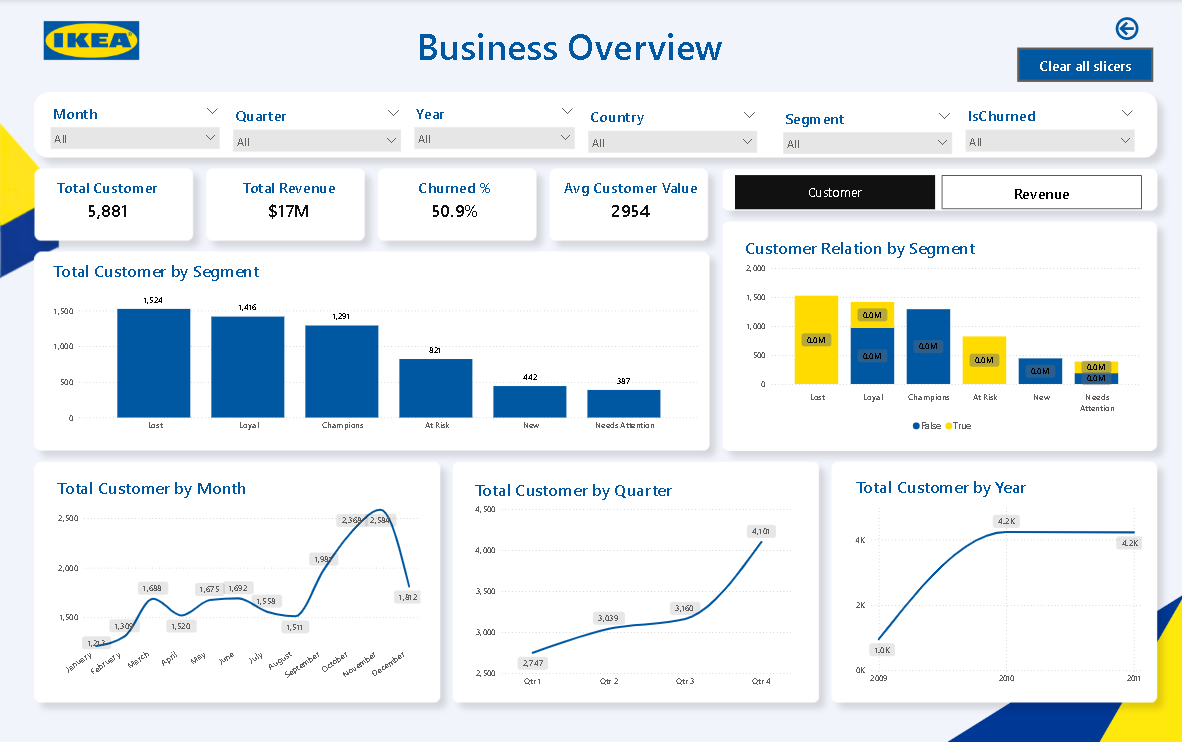

This screenshot's page, from the dashboard's own definition file:
{"tool":"powerbi","page":{"name":"Overview","canvas":[1750,1100],"ordinal":1},"visuals":[{"type":"card","title":"Total Customer","fields":{"Values":["Sheet1.Total_Customer"]},"box":[68.2,261.7,180.6,73.7],"z":0},{"type":"lineChart","title":"Total Customer by Year","fields":{"Category":["Sheet1.InvoiceMonth.Variation.Date Hierarchy.Year"],"Y":["Sheet1.Total_Customer"]},"box":[1257.4,701.9,432,318],"z":0,"group":"g1"},{"type":"card","title":"Churned %","fields":{"Values":["Sheet1.Churned %"]},"box":[580.6,261.7,180.6,73.7],"z":1000},{"type":"lineChart","title":"Total Customer by Quarter","fields":{"Category":["Sheet1.InvoiceMonth.Variation.Date Hierarchy.Quarter"],"Y":["Sheet1.Total_Customer"]},"box":[695.4,705.9,478,318],"z":1000,"group":"g1"},{"type":"card","title":"Total Revenue","fields":{"Values":["Sheet1.Total_Revenue"]},"box":[334.9,260.9,182.5,73.7],"z":2000},{"type":"columnChart","title":"Total Customer by Segment","fields":{"Category":["Sheet1.Segment"],"Y":["Sheet1.Total_Customer"]},"box":[73.4,383.5,964,264],"z":2000,"group":"g1"},{"type":"card","title":"Avg Customer Value","fields":{"Values":["Sheet1.Avg Customer Value"]},"box":[818.4,261.7,223,73.7],"z":3000},{"type":"columnChart","title":"Customer Relation by Segment","fields":{"Category":["Sheet1.Segment"],"Series":["Sheet1.IsChurned"],"Y":["Sheet1.Total_Customer"]},"box":[1093.4,349.5,596,298],"z":3000,"group":"g1"},{"type":"slicer","fields":{"Values":["Sheet1.InvoiceDate.Variation.Date Hierarchy.Quarter"]},"box":[333.6,151.1,267.3,81.1],"z":4000},{"type":"lineChart","title":"Total Customer by Month","fields":{"Category":["Sheet1.InvoiceMonth.Variation.Date Hierarchy.Month"],"Y":["Sheet1.Total_Customer"]},"box":[79.4,703.9,546,318],"z":4000,"group":"g1"},{"type":"slicer","fields":{"Values":["Sheet1.InvoiceDate.Variation.Date Hierarchy.Month"]},"box":[64.5,147.5,269.1,81.1],"z":5000},{"type":"slicer","fields":{"Values":["Sheet1.InvoiceDate.Variation.Date Hierarchy.Year"]},"box":[600.9,147.5,256.2,81.1],"z":6000},{"type":"slicer","fields":{"Values":["Sheet1.Country"]},"box":[857.1,153,269.1,75.6],"z":7000},{"type":"slicer","fields":{"Values":["Sheet1.Segment"]},"box":[1144.6,154.8,269.1,75.6],"z":8000},{"type":"slicer","fields":{"Values":["Sheet1.IsChurned"]},"box":[1413.7,151.1,269.1,75.6],"z":9000},{"type":"group","id":"g1","title":"Customer","box":[73.4,349.5,1615.8,676.2],"z":10000},{"type":"bookmarkNavigator","box":[1084,260,600,50],"z":12000},{"type":"image","box":[0,0,270,122],"z":13000},{"type":"textbox","box":[610,28,492,94],"z":14000},{"type":"actionButton","box":[1640,22,100,40],"z":15000},{"type":"actionButton","box":[1500,72,200,50],"z":16000}]}

Visuals, with their boxes in screenshot pixels (x1, y1, x2, y2), scaled from the page's 1750x1100 canvas onto the 1182x742 screenshot:
"Total Customer" card: bbox=(46, 177, 168, 226)
"Total Customer by Year" lineChart: bbox=(849, 473, 1141, 688)
"Churned %" card: bbox=(392, 177, 514, 226)
"Total Customer by Quarter" lineChart: bbox=(470, 476, 793, 691)
"Total Revenue" card: bbox=(226, 176, 349, 226)
"Total Customer by Segment" columnChart: bbox=(50, 259, 701, 437)
"Avg Customer Value" card: bbox=(553, 177, 703, 226)
"Customer Relation by Segment" columnChart: bbox=(739, 236, 1141, 437)
slicer - Sheet1.InvoiceDate.Variation.Date Hierarchy.Quarter: bbox=(225, 102, 406, 157)
"Total Customer by Month" lineChart: bbox=(54, 475, 422, 689)
slicer - Sheet1.InvoiceDate.Variation.Date Hierarchy.Month: bbox=(44, 99, 225, 154)
slicer - Sheet1.InvoiceDate.Variation.Date Hierarchy.Year: bbox=(406, 99, 579, 154)
slicer - Sheet1.Country: bbox=(579, 103, 761, 154)
slicer - Sheet1.Segment: bbox=(773, 104, 955, 155)
slicer - Sheet1.IsChurned: bbox=(955, 102, 1137, 153)
"Customer" group: bbox=(50, 236, 1141, 692)
bookmarkNavigator: bbox=(732, 175, 1137, 209)
image: bbox=(0, 0, 182, 82)
textbox: bbox=(412, 19, 744, 82)
actionButton: bbox=(1108, 15, 1175, 42)
actionButton: bbox=(1013, 49, 1148, 82)
